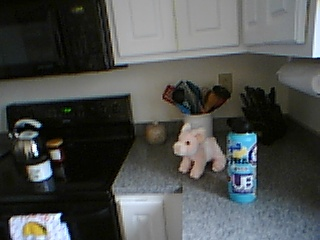piggy: (172, 123, 227, 180)
